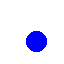circle: (26, 31, 46, 51)
